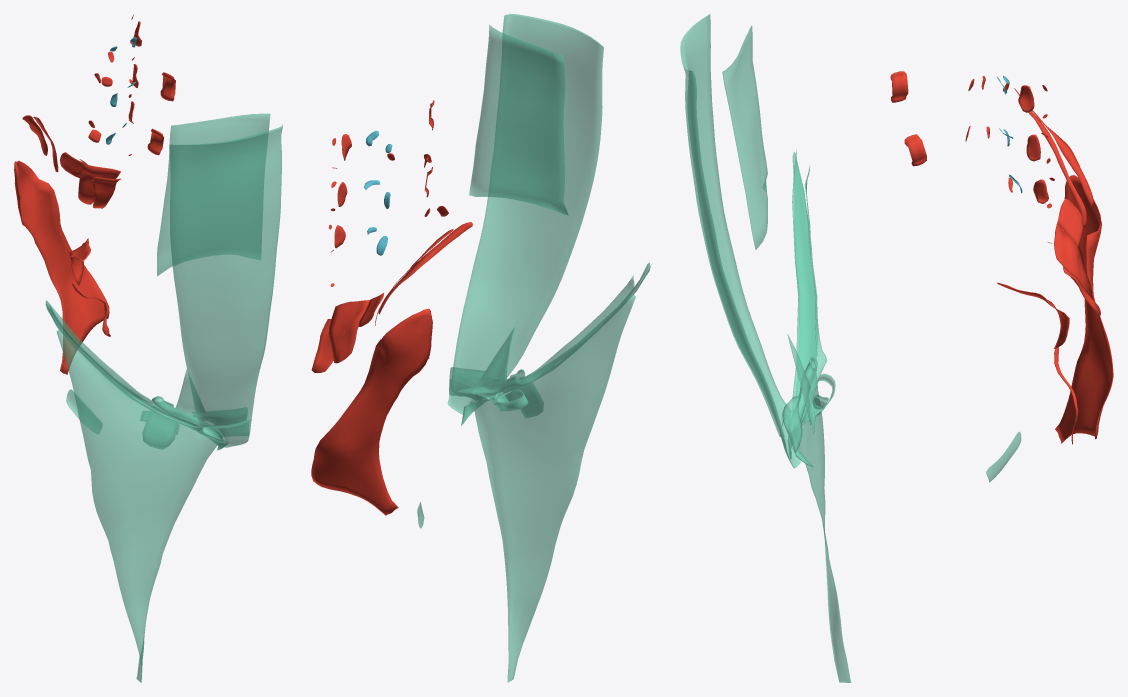
Rendered from open3d-inguinal-canal-attachments-01.glb.
The picture shows the model from 3 angles, left to right: view 1: azimuth 30°, elevation 25°; view 2: azimuth 150°, elevation 25°; view 3: azimuth 270°, elevation 25°; orthographic projection. The views are drawn at different scales.
Visible parts, largest first — view 1: O3D_a3dd6d33033d20, O3D_218ff3f64ba160, O3D_8b5b3c2a51d2ad, O3D_46103911c99d40, O3D_d630252bae62f3, O3D_142d4c8e69d1e5, O3D_d1c5d6ee1f7b34, O3D_baad543ea9beab, O3D_06a22ddfebaa85, O3D_a384e6a2706a5c, O3D_13620a2170f8b3, O3D_edd20ae50a8ffb (+4 smaller); view 2: O3D_a3dd6d33033d20, O3D_218ff3f64ba160, O3D_8b5b3c2a51d2ad, O3D_46103911c99d40, O3D_d630252bae62f3, O3D_d1c5d6ee1f7b34, O3D_a384e6a2706a5c, O3D_2157b54e43eeec, O3D_142d4c8e69d1e5, O3D_77f310aeb07e30, O3D_edd20ae50a8ffb, O3D_baad543ea9beab; view 3: O3D_a3dd6d33033d20, O3D_46103911c99d40, O3D_8b5b3c2a51d2ad, O3D_142d4c8e69d1e5, O3D_218ff3f64ba160, O3D_d630252bae62f3, O3D_06a22ddfebaa85, O3D_d1c5d6ee1f7b34, O3D_b2c263ffe117ad, O3D_2157b54e43eeec, O3D_77f310aeb07e30, O3D_935803d72b0500 (+1 smaller).
Boxes of the visible parts, x1=… form: O3D_a3dd6d33033d20: x1=169, y1=124, x2=282, y2=427; O3D_218ff3f64ba160: x1=56, y1=329, x2=219, y2=682; O3D_8b5b3c2a51d2ad: x1=157, y1=113, x2=270, y2=276; O3D_46103911c99d40: x1=14, y1=160, x2=109, y2=374; O3D_d630252bae62f3: x1=78, y1=21, x2=141, y2=204; O3D_142d4c8e69d1e5: x1=45, y1=300, x2=199, y2=429; O3D_d1c5d6ee1f7b34: x1=49, y1=303, x2=195, y2=416; O3D_baad543ea9beab: x1=142, y1=411, x2=176, y2=449; O3D_06a22ddfebaa85: x1=88, y1=72, x2=175, y2=155; O3D_a384e6a2706a5c: x1=175, y1=369, x2=204, y2=420; O3D_13620a2170f8b3: x1=66, y1=389, x2=102, y2=434; O3D_edd20ae50a8ffb: x1=92, y1=51, x2=120, y2=208; O3D_a3dd6d33033d20: x1=452, y1=14, x2=603, y2=383; O3D_218ff3f64ba160: x1=473, y1=294, x2=635, y2=682; O3D_8b5b3c2a51d2ad: x1=469, y1=25, x2=568, y2=215; O3D_46103911c99d40: x1=311, y1=308, x2=432, y2=515; O3D_d630252bae62f3: x1=328, y1=134, x2=392, y2=363; O3D_d1c5d6ee1f7b34: x1=455, y1=275, x2=634, y2=393; O3D_a384e6a2706a5c: x1=472, y1=327, x2=514, y2=396; O3D_2157b54e43eeec: x1=449, y1=367, x2=500, y2=396; O3D_142d4c8e69d1e5: x1=503, y1=262, x2=651, y2=393; O3D_77f310aeb07e30: x1=378, y1=222, x2=472, y2=314; O3D_edd20ae50a8ffb: x1=311, y1=153, x2=394, y2=373; O3D_baad543ea9beab: x1=514, y1=383, x2=543, y2=417; O3D_a3dd6d33033d20: x1=680, y1=14, x2=790, y2=437; O3D_46103911c99d40: x1=1055, y1=175, x2=1113, y2=443; O3D_8b5b3c2a51d2ad: x1=722, y1=26, x2=767, y2=249; O3D_142d4c8e69d1e5: x1=792, y1=150, x2=817, y2=413; O3D_218ff3f64ba160: x1=797, y1=195, x2=851, y2=682; O3D_d630252bae62f3: x1=1003, y1=75, x2=1092, y2=295; O3D_06a22ddfebaa85: x1=890, y1=71, x2=974, y2=166; O3D_d1c5d6ee1f7b34: x1=804, y1=166, x2=826, y2=433; O3D_b2c263ffe117ad: x1=1057, y1=198, x2=1083, y2=246; O3D_2157b54e43eeec: x1=782, y1=395, x2=802, y2=452; O3D_77f310aeb07e30: x1=1014, y1=88, x2=1093, y2=206; O3D_935803d72b0500: x1=1028, y1=111, x2=1086, y2=227.
Bounding box in the file's own units: 0.1214 × 0.3383 × 0.2038.
